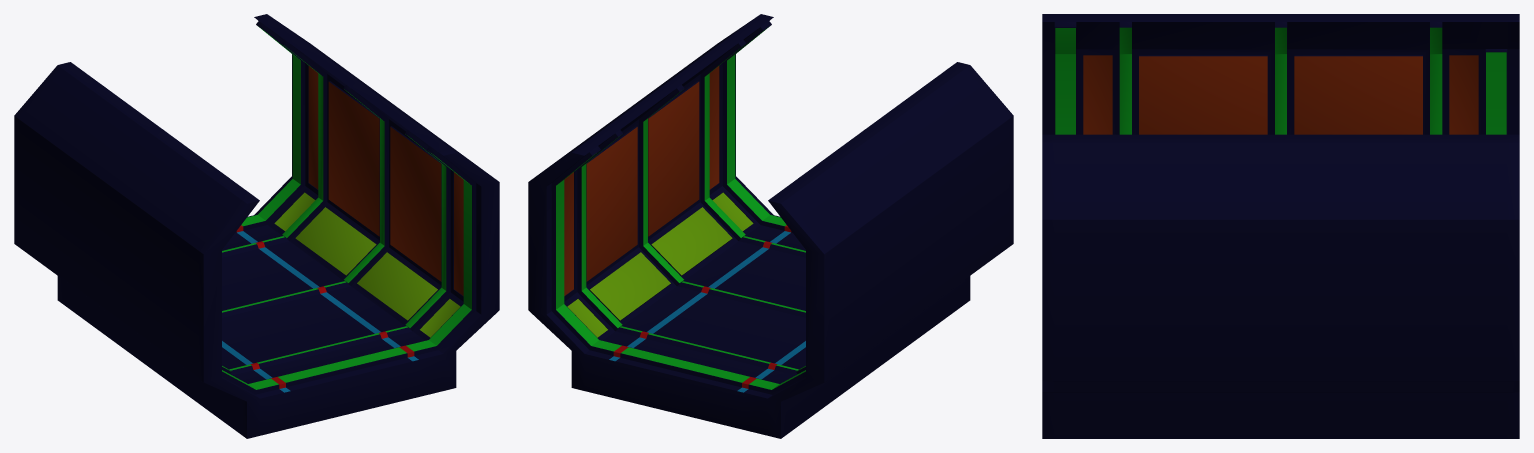
The model's file is 1er couloir.FBX.
The picture shows the model from 3 angles, left to right: view 1: azimuth 30°, elevation 25°; view 2: azimuth 150°, elevation 25°; view 3: azimuth 270°, elevation 25°; orthographic projection. The views are drawn at different scales.
Parts seen in each view (by area): view 1: Backup; view 2: Backup; view 3: Backup.
Part boxes in pixels (x1,y1,x2,y2): Backup: (14, 14, 499, 438); Backup: (528, 14, 1013, 438); Backup: (1042, 14, 1519, 438).
Bounding box in the file's own units: 2781 × 2112 × 3082.
